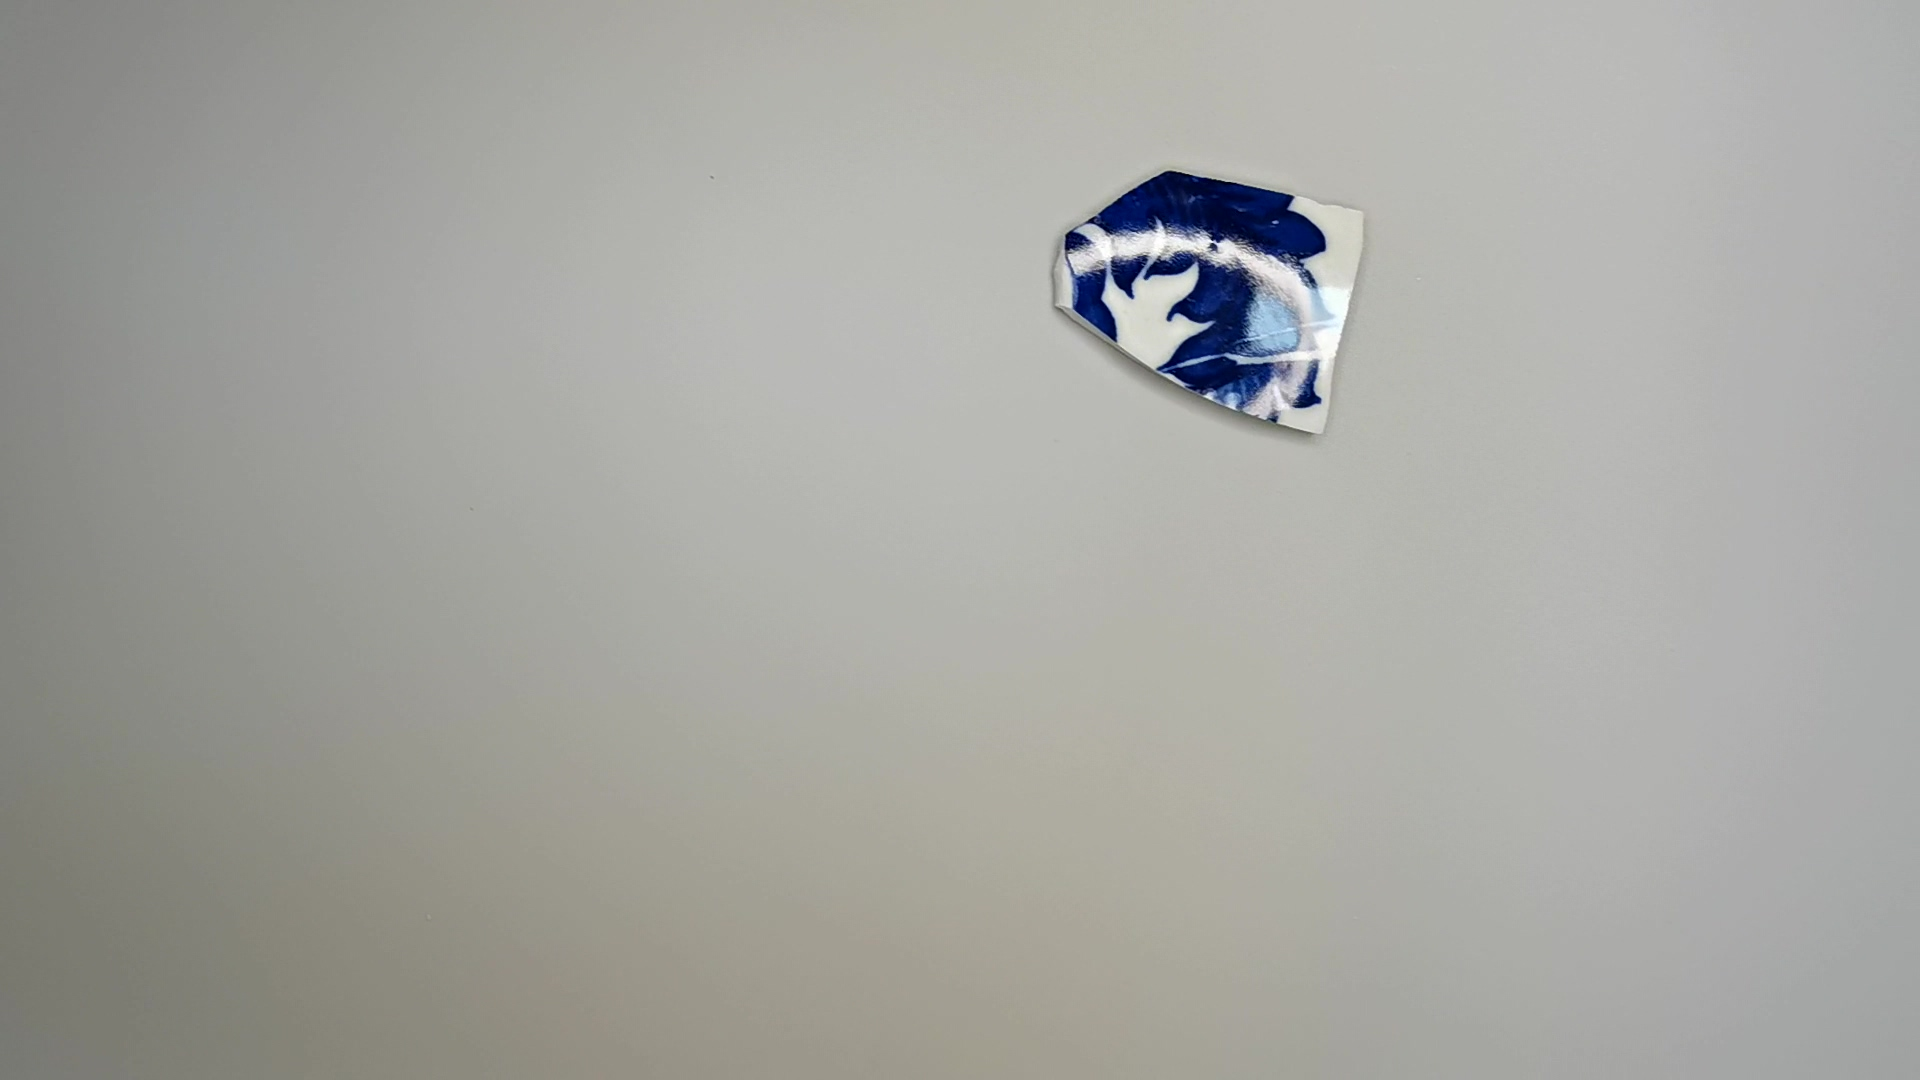ceramic: (1044, 164, 1378, 448)
